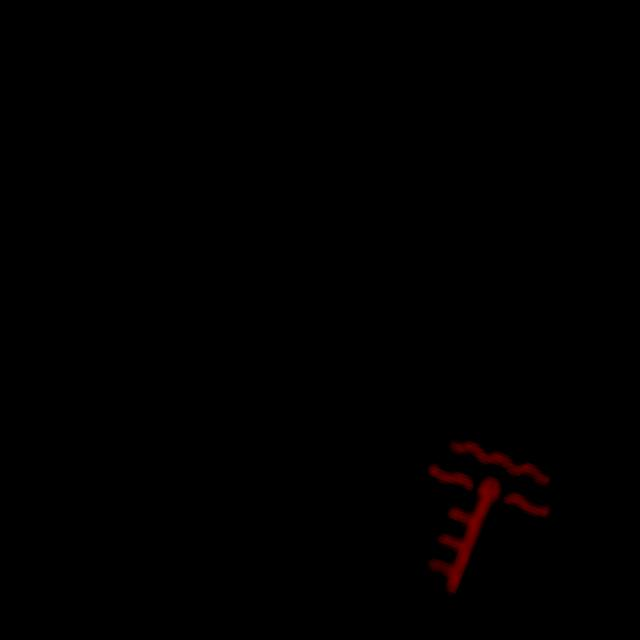kontrolka: (370, 412, 576, 635)
